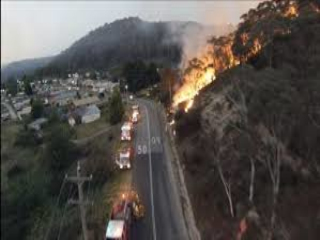fire: (168, 61, 221, 115), (196, 36, 262, 73)
